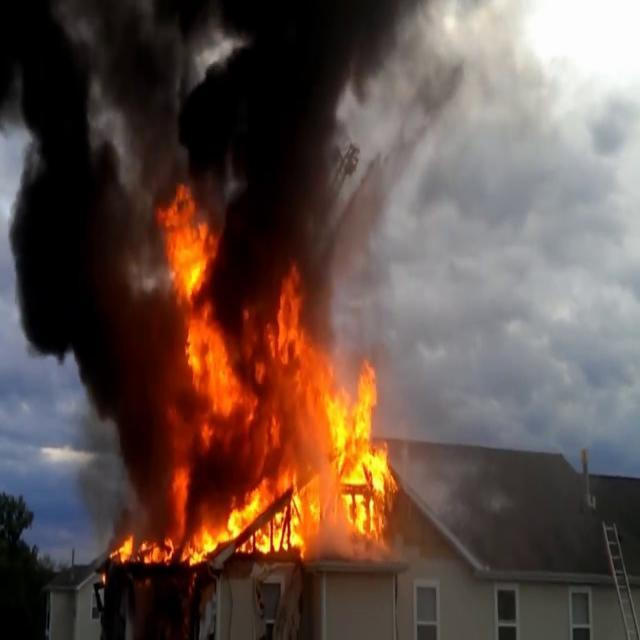Fire: (110, 184, 399, 565)
